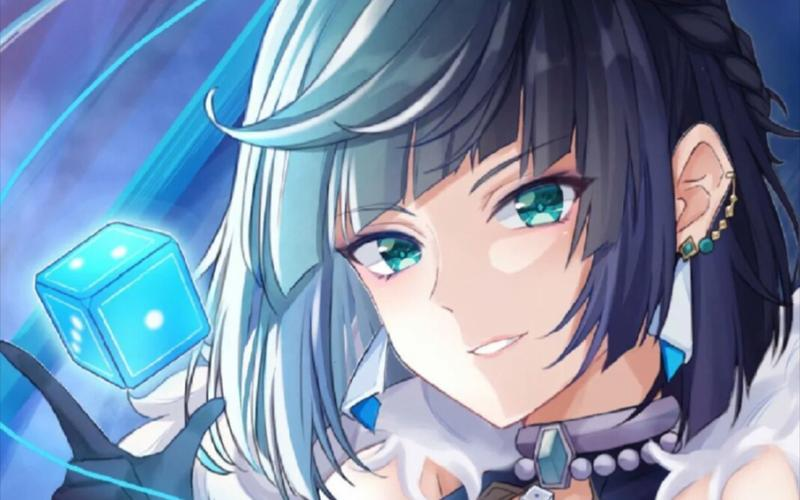夜兰: (2, 1, 799, 496)
